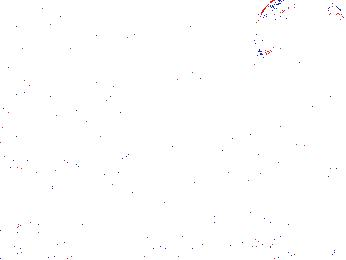moon jellyfish: (1, 89, 95, 175), (16, 50, 122, 103), (204, 12, 269, 92), (254, 1, 345, 58), (236, 55, 321, 114), (87, 9, 178, 48)
